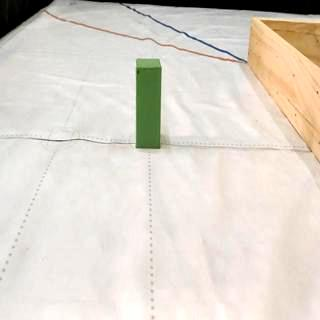greenbox: (134, 56, 164, 150)
